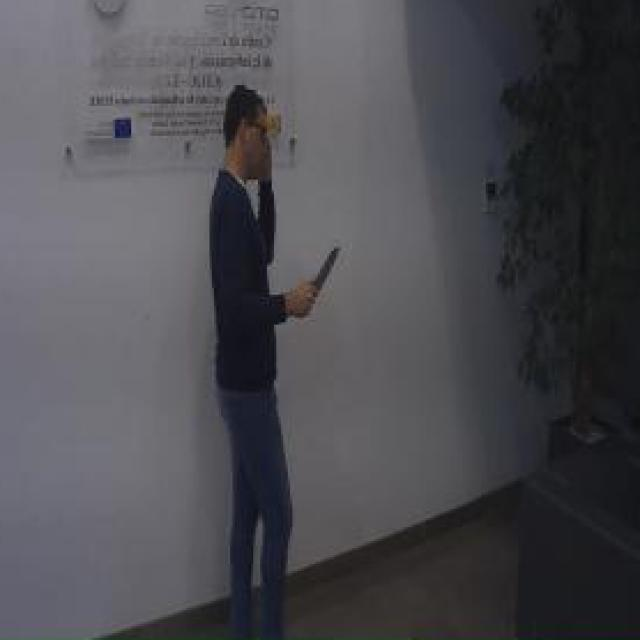knife: (303, 242, 343, 315)
